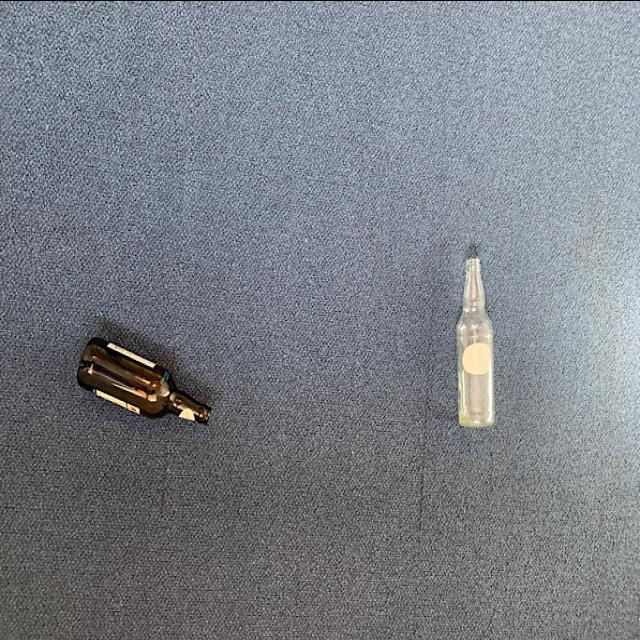litter: (73, 328, 224, 432), (450, 249, 502, 439)
